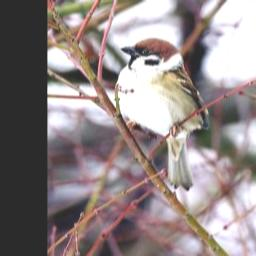Sparrow: (114, 37, 212, 189)
